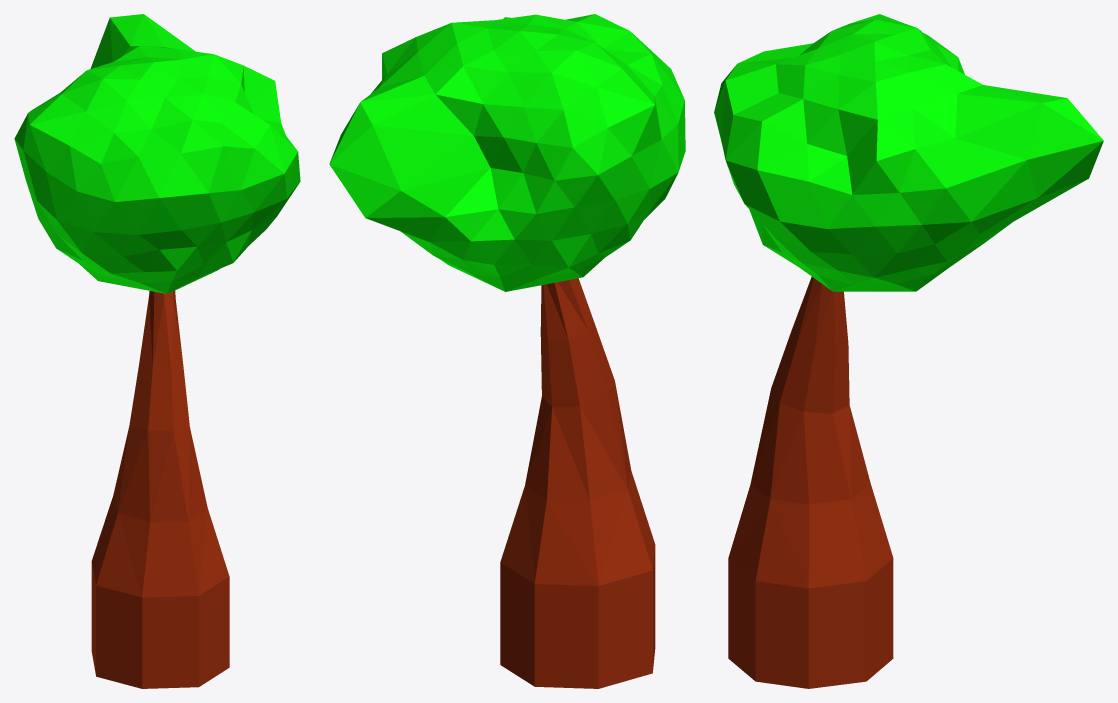
Rendered from treenotex.obj.
3 views of the same model, side by side, from view 1: azimuth 30°, elevation 25°; view 2: azimuth 150°, elevation 25°; view 3: azimuth 270°, elevation 25° (orthographic). The views are drawn at different scales.
Visible parts, largest first — view 1: Icosphere, Cube; view 2: Icosphere, Cube; view 3: Icosphere, Cube.
Part boxes in pixels (x1,y1,x2,y2): Icosphere: (14, 14, 300, 293); Cube: (91, 290, 229, 688); Icosphere: (329, 14, 685, 291); Cube: (500, 278, 655, 688); Icosphere: (714, 14, 1103, 291); Cube: (728, 277, 893, 688).
Size of the model in its own units: 5.59 by 12.5 by 7.03.
